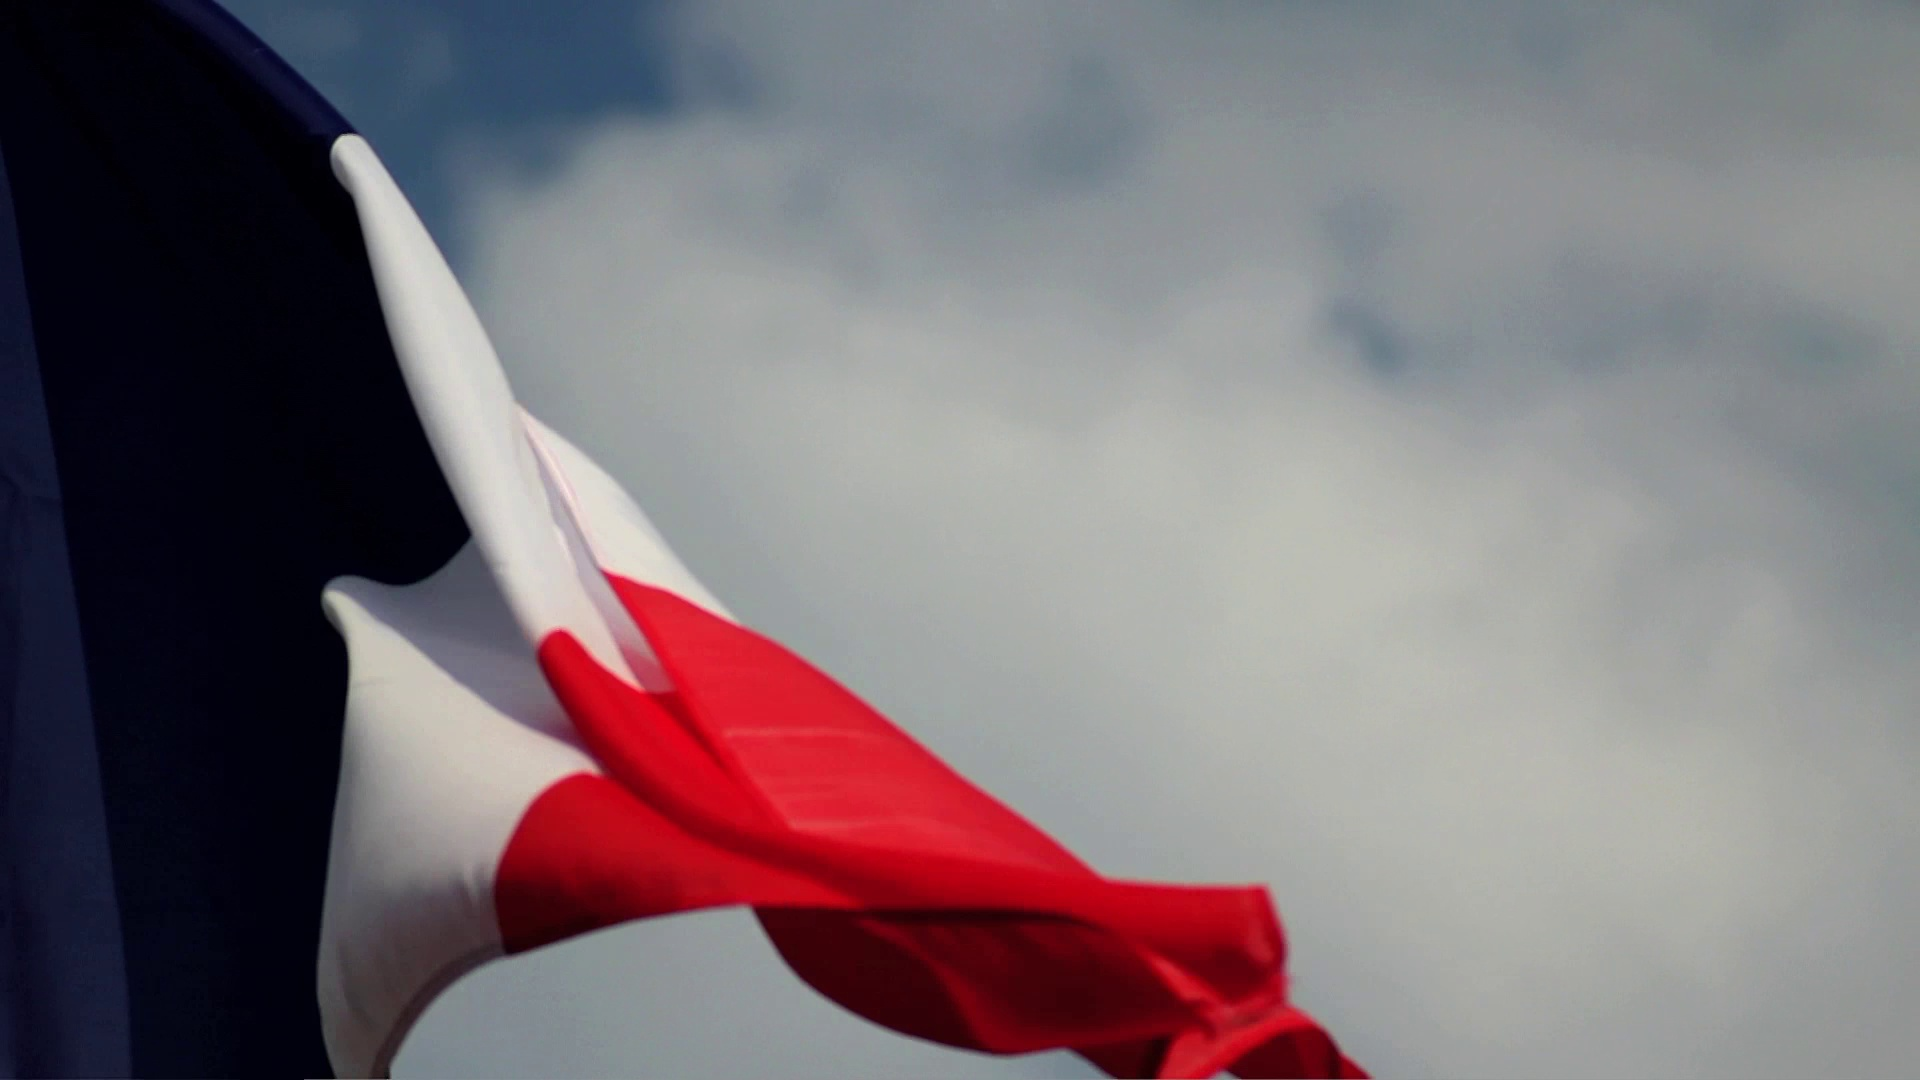French Flag: (1, 1, 1356, 1080)
